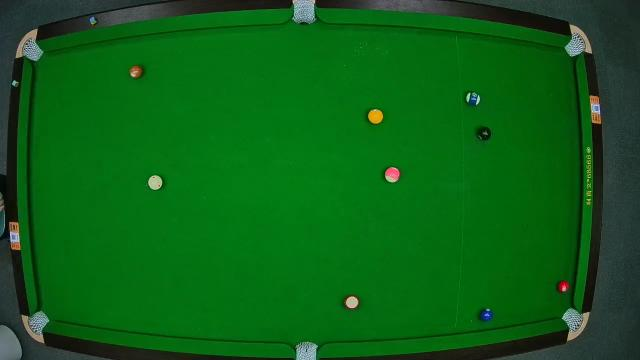bag1: (19, 36, 45, 64)
bag2: (292, 0, 316, 26)
bag3: (563, 30, 589, 57)
bag4: (25, 309, 51, 339)
bag5: (294, 340, 318, 360)
bag6: (560, 306, 586, 334)
ball0: (148, 174, 164, 192)
ball1: (368, 108, 384, 124)
ball10: (466, 91, 480, 107)
ball11: (344, 294, 360, 310)
ball12: (384, 166, 402, 184)
ball2: (478, 307, 494, 323)
ball3: (558, 280, 570, 296)
ball7: (129, 64, 145, 80)
ball8: (476, 126, 492, 142)
